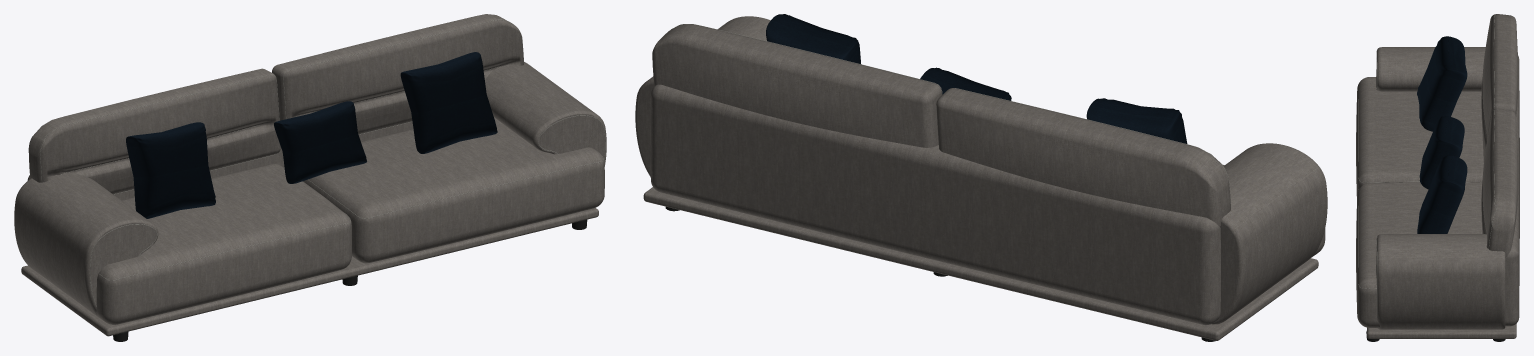
Rendered from straight.glb.
The picture shows the model from 3 angles, left to right: view 1: azimuth 30°, elevation 25°; view 2: azimuth 150°, elevation 25°; view 3: azimuth 270°, elevation 25°; orthographic projection. The views are drawn at different scales.
Parts seen in each view (by area): view 1: fabric (×2), pillows; view 2: fabric (×2), pillows; view 3: fabric (×2), pillows.
Part boxes in pixels (box(x1,y1,x2,y2)): fabric (×2): box(14, 14, 606, 336); pillows: box(126, 52, 497, 218); fabric (×2): box(635, 16, 1327, 340); pillows: box(766, 14, 1187, 143); fabric (×2): box(1356, 14, 1519, 338); pillows: box(1417, 36, 1467, 233).
Size of the model in its own units: 3 by 0.88 by 0.95.
Materials: 4 (2 with a texture image).
